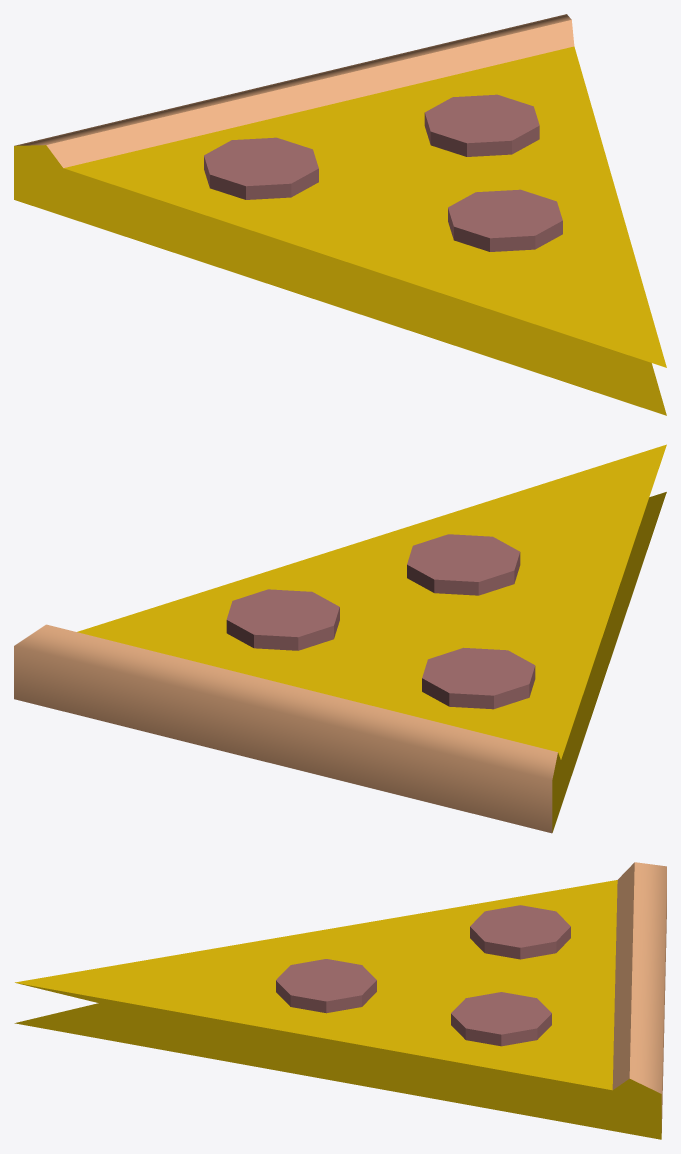
The model's file is Pepperoni Pizza Slice 1.fbx.
The picture shows the model from 3 angles, top to bottom: view 1: azimuth 30°, elevation 25°; view 2: azimuth 150°, elevation 25°; view 3: azimuth 270°, elevation 25°; orthographic projection. The views are drawn at different scales.
Parts seen in each view (by area): view 1: polySurface32; view 2: polySurface32; view 3: polySurface32.
Part boxes in pixels (bbox=[...]): polySurface32: bbox=[14, 14, 666, 415]; polySurface32: bbox=[14, 444, 666, 833]; polySurface32: bbox=[14, 862, 666, 1139].
Size of the model in its own units: 4.44 by 0.5042 by 5.38.
